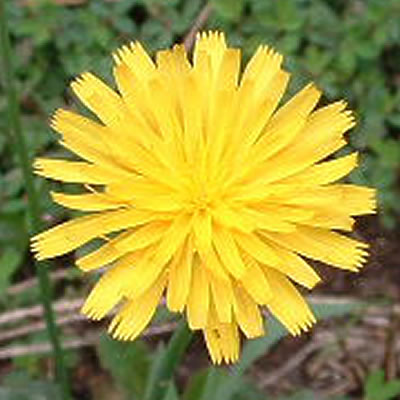dandelion: (28, 47, 379, 342)
